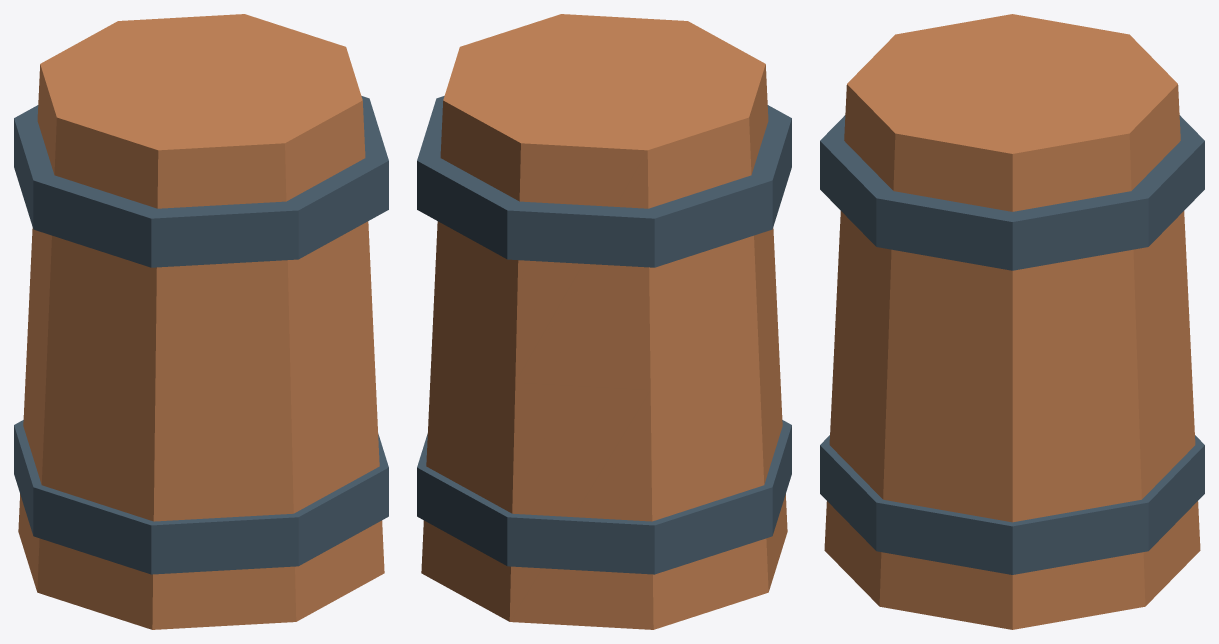
The model's file is barrel.glb.
The picture shows the model from 3 angles, left to right: view 1: azimuth 30°, elevation 25°; view 2: azimuth 150°, elevation 25°; view 3: azimuth 270°, elevation 25°; orthographic projection.
Parts seen in each view (by area): view 1: Part0, Part2, Part1; view 2: Part0, Part2, Part1; view 3: Part0, Part2, Part1.
Boxes of the visible parts, x1=… form: Part0: x1=18, y1=14, x2=384, y2=629; Part2: x1=14, y1=96, x2=388, y2=267; Part1: x1=14, y1=420, x2=388, y2=574; Part0: x1=421, y1=14, x2=787, y2=629; Part2: x1=417, y1=96, x2=791, y2=267; Part1: x1=417, y1=420, x2=791, y2=574; Part0: x1=824, y1=14, x2=1200, y2=629; Part2: x1=820, y1=115, x2=1204, y2=270; Part1: x1=820, y1=435, x2=1204, y2=574.
Bounding box in the file's own units: 0.86 × 1.15 × 0.86.
